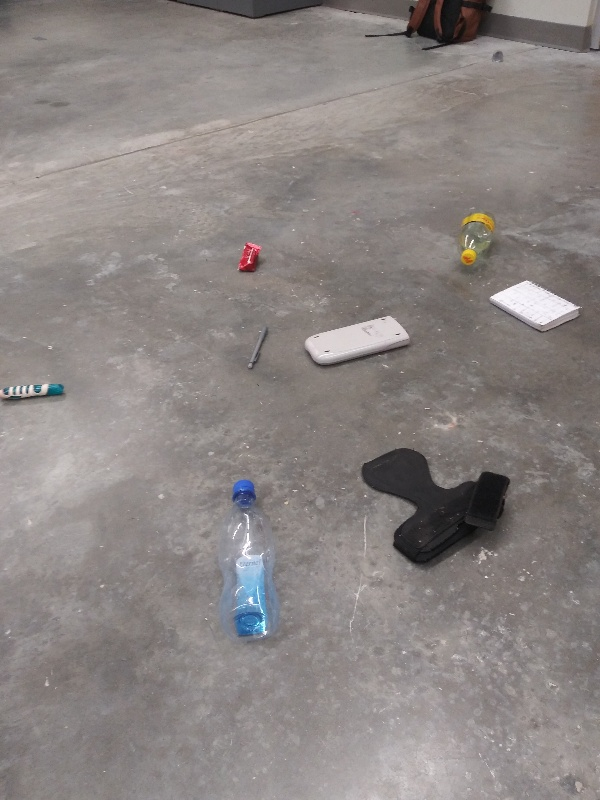bottle: (213, 477, 284, 644), (454, 205, 502, 266)
